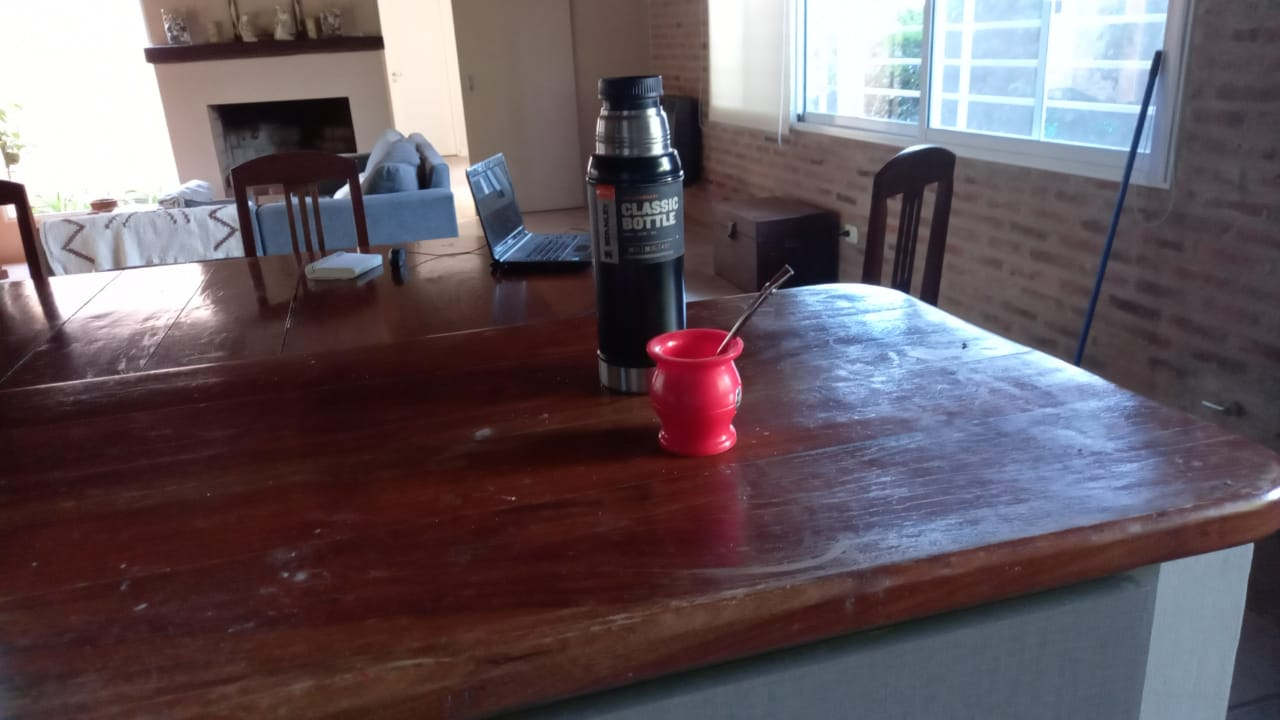mate: (645, 327, 741, 463)
